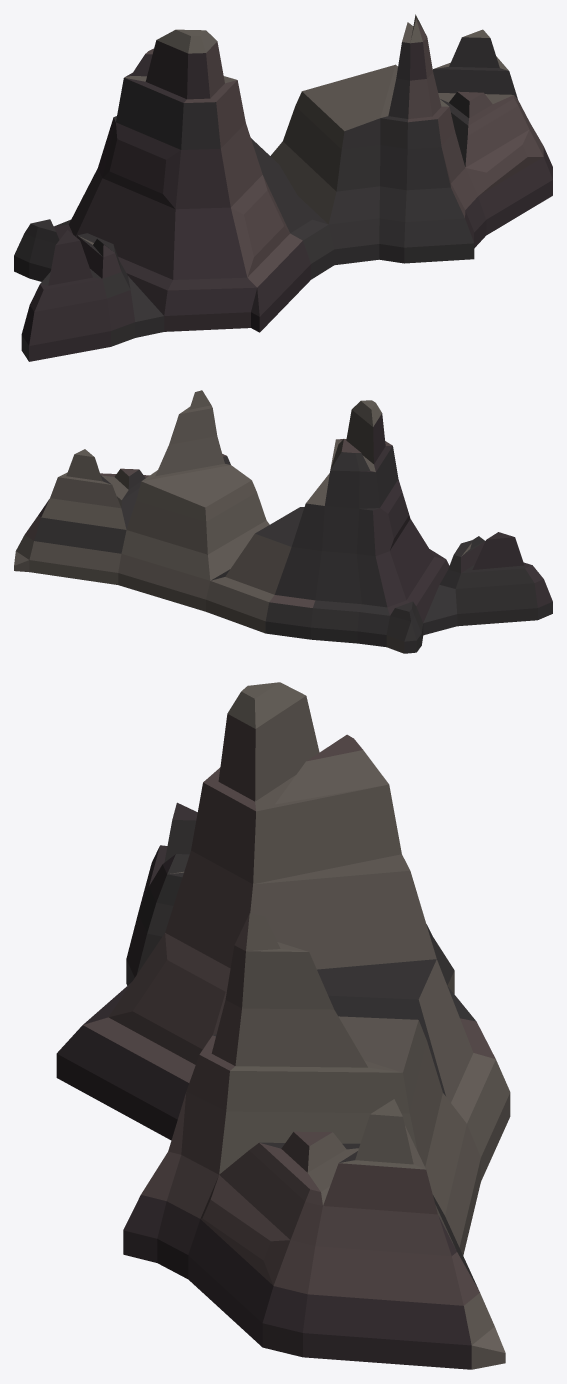
File: Island 2.fbx
The picture shows the model from 3 angles, top to bottom: view 1: azimuth 30°, elevation 25°; view 2: azimuth 150°, elevation 25°; view 3: azimuth 270°, elevation 25°; orthographic projection. The views are drawn at different scales.
Visible parts, largest first — view 1: Rock 2; view 2: Rock 2; view 3: Rock 2.
Part boxes in pixels (box(x1,y1,x2,y2)): Rock 2: box(14, 14, 552, 361); Rock 2: box(14, 390, 552, 653); Rock 2: box(56, 682, 510, 1369).
Size of the model in its own units: 7334 by 2984 by 3169.
